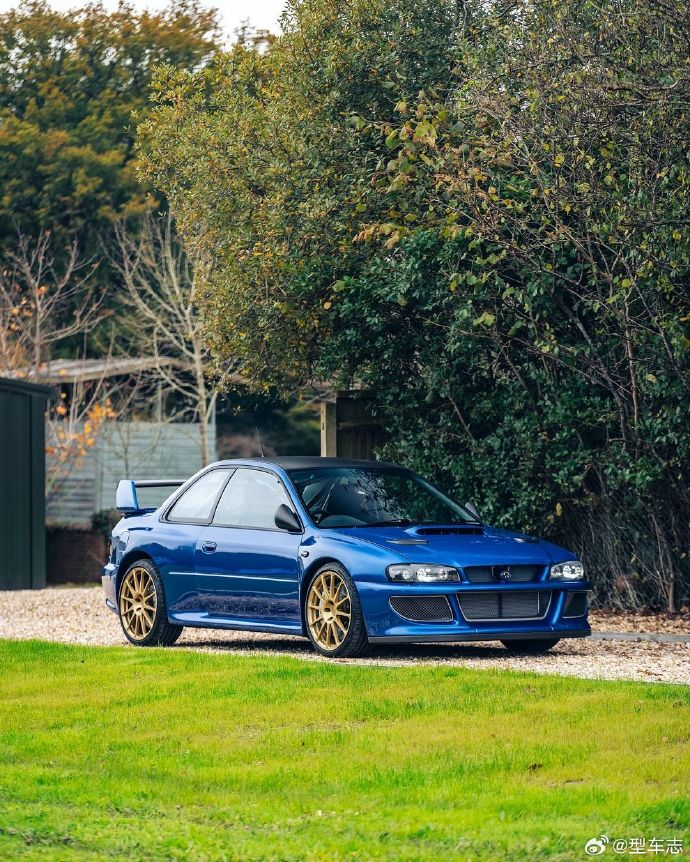other: (100, 456, 595, 661)
